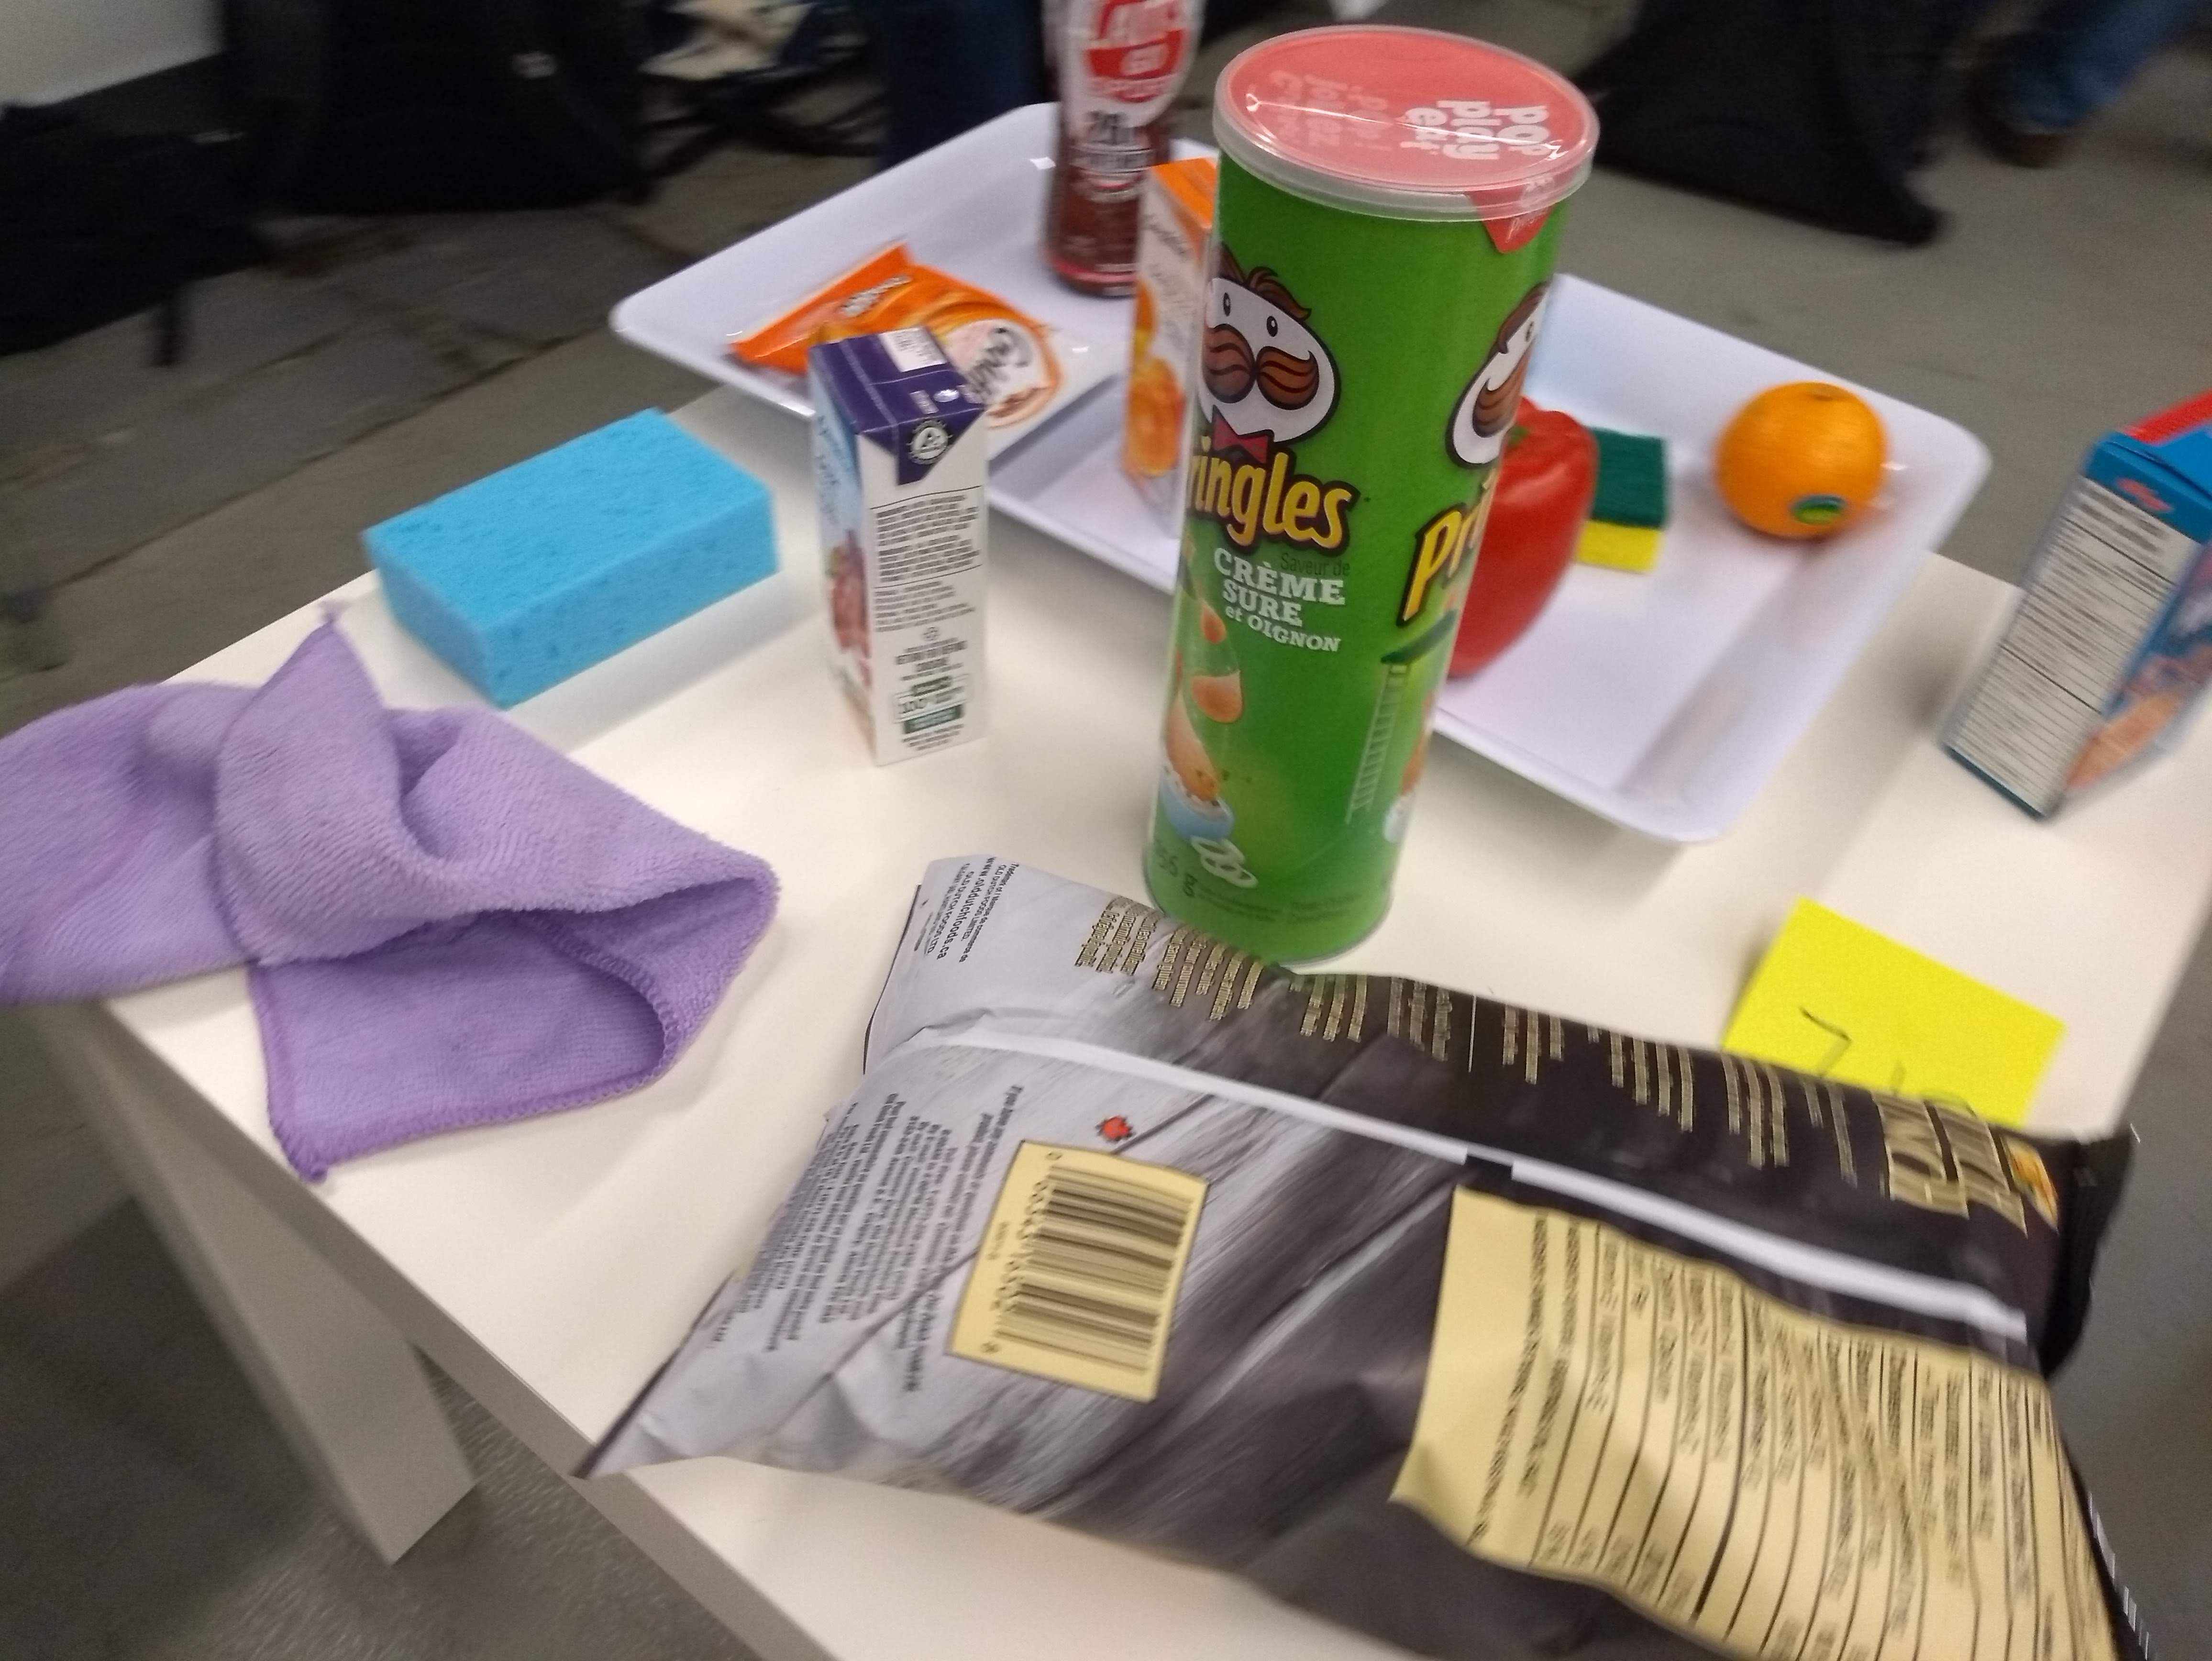cereal: (1935, 368, 2212, 810)
chocolate_drink: (1036, 0, 1193, 298)
cloth_opl: (0, 633, 785, 1167)
crackers: (776, 255, 1111, 476)
grape_juice: (808, 325, 1010, 775), (1122, 154, 1237, 529)
orange: (1704, 375, 1895, 565)
paprika: (1455, 375, 1593, 715)
potato_chips: (708, 902, 2095, 1661)
pringles: (1153, 21, 1591, 988)
scrubby: (1574, 417, 1675, 586)
sponge_opl: (342, 396, 806, 710)
